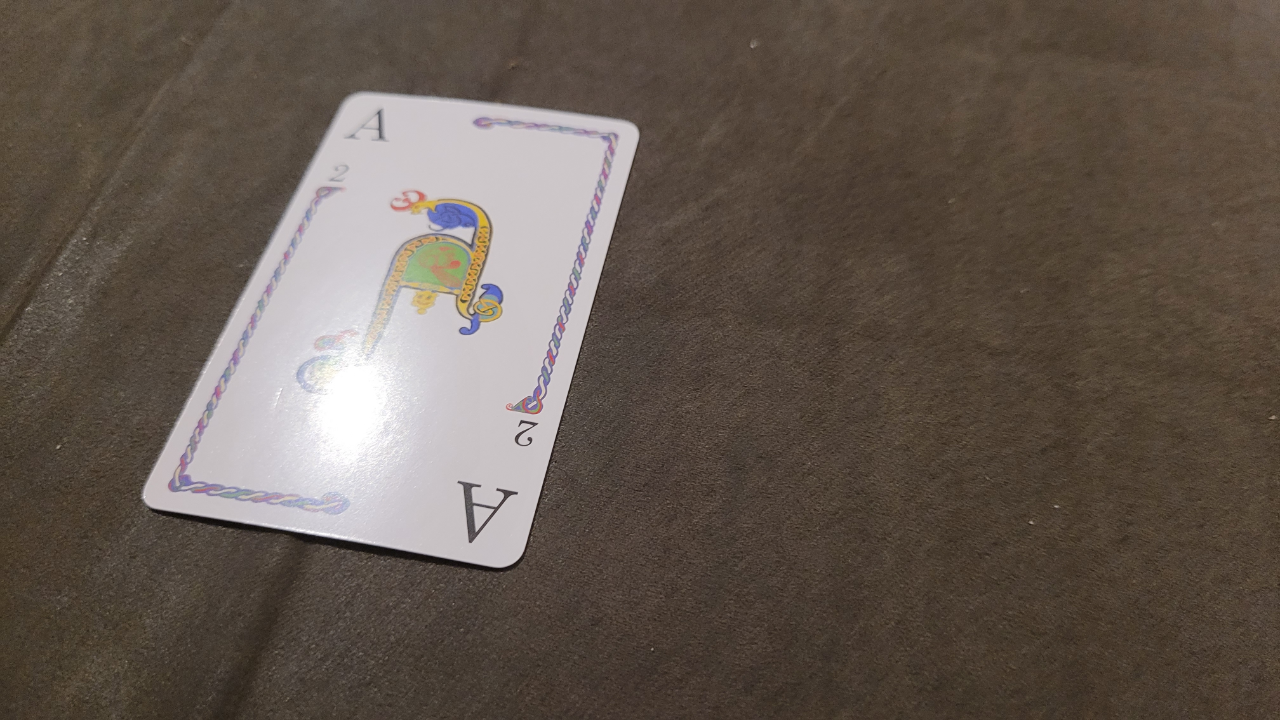quiddler_card: (133, 64, 668, 599)
